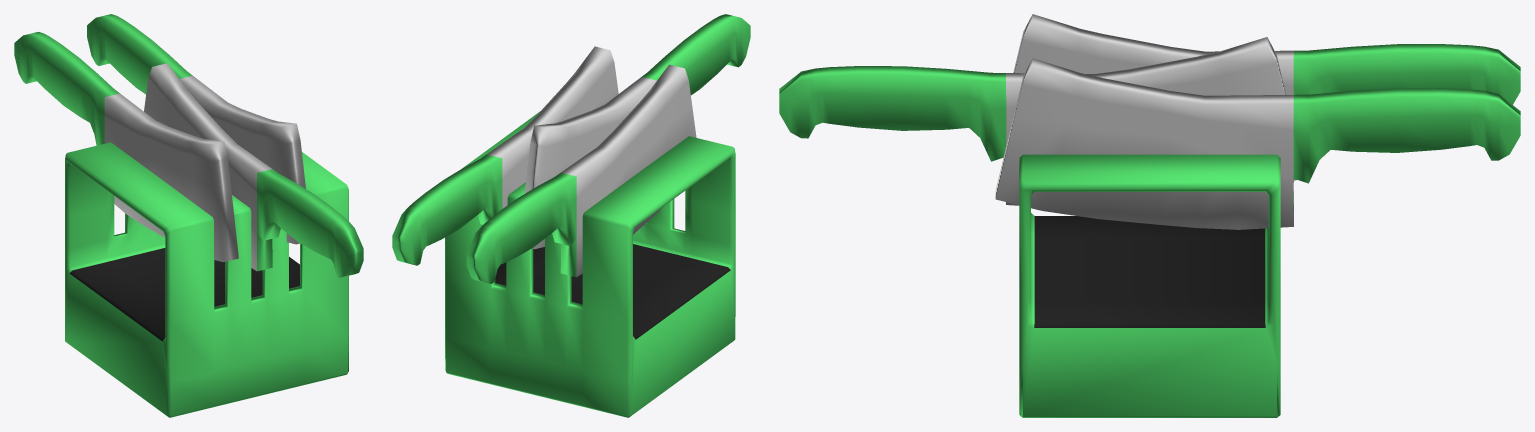
The model's file is cutter.fbx.
3 views of the same model, side by side, from view 1: azimuth 30°, elevation 25°; view 2: azimuth 150°, elevation 25°; view 3: azimuth 270°, elevation 25° (orthographic). The views are drawn at different scales.
Visible parts, largest first — view 1: Cube, Cube.004, Cube.002, Cube.003; view 2: Cube, Cube.004, Cube.003, Cube.002; view 3: Cube, Cube.003, Cube.002, Cube.004.
Boxes of the visible parts, x1,y1,x2,y2 form: Cube: [65, 109, 348, 417]; Cube.004: [14, 32, 238, 262]; Cube.002: [144, 63, 363, 277]; Cube.003: [87, 14, 305, 244]; Cube: [445, 111, 735, 417]; Cube.004: [466, 64, 696, 283]; Cube.003: [392, 46, 618, 265]; Cube.002: [524, 14, 750, 249]; Cube: [1019, 154, 1280, 417]; Cube.003: [995, 58, 1520, 229]; Cube.002: [779, 37, 1296, 205]; Cube.004: [1013, 14, 1520, 182].
Size of the model in its own units: 5.68 by 2 by 2.73.
